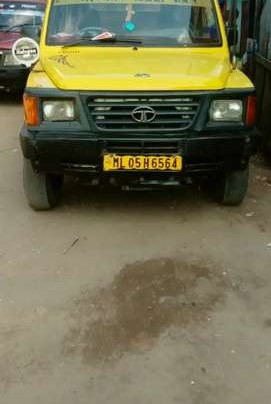ML05H6564: (103, 153, 181, 170)
